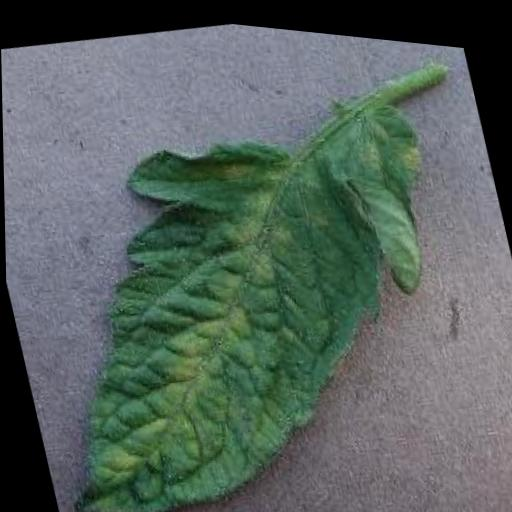Leaf Mold: (1, 63, 496, 512)
